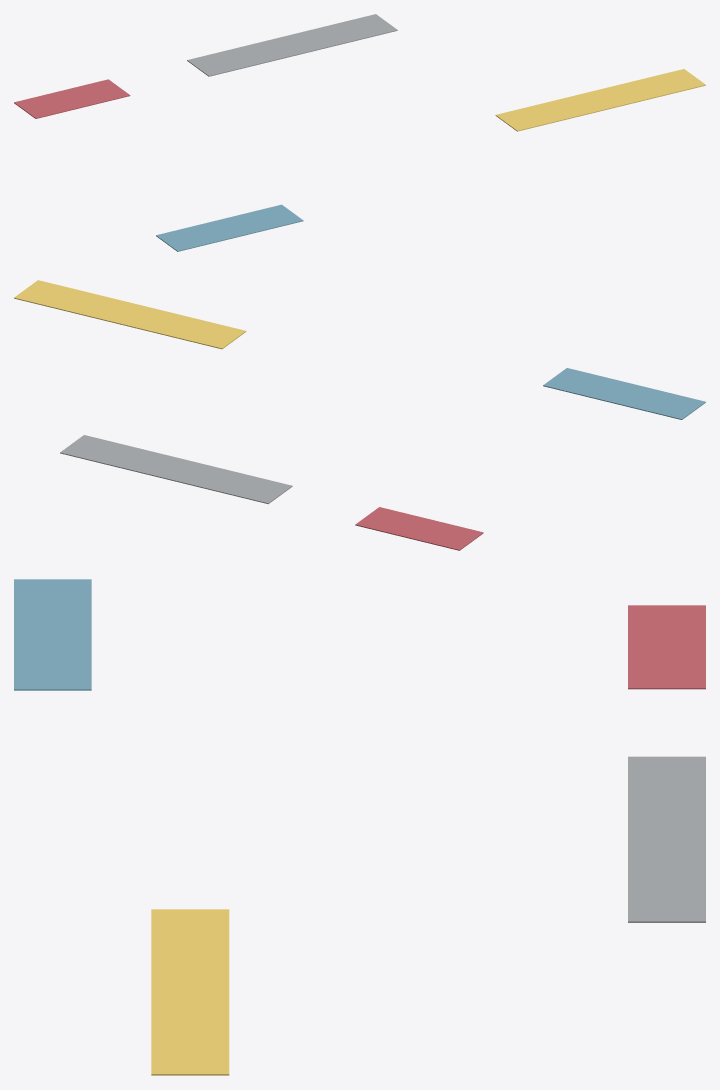
File: layout_tkr10.glb
The picture shows the model from 3 angles, top to bottom: view 1: azimuth 30°, elevation 25°; view 2: azimuth 150°, elevation 25°; view 3: azimuth 270°, elevation 25°; orthographic projection. The views are drawn at different scales.
Parts seen in each view (by area): view 1: layout_tkr10_pileta, layout_tkr10_planchada, layout_tkr10_acumulador, layout_tkr10_bomba; view 2: layout_tkr10_pileta, layout_tkr10_planchada, layout_tkr10_acumulador, layout_tkr10_bomba; view 3: layout_tkr10_planchada, layout_tkr10_pileta, layout_tkr10_acumulador, layout_tkr10_bomba.
Part boxes in pixels (left/top/right/bottom): layout_tkr10_pileta: left=187, top=14, right=397, bottom=76; layout_tkr10_planchada: left=495, top=69, right=705, bottom=131; layout_tkr10_acumulador: left=156, top=204, right=303, bottom=251; layout_tkr10_bomba: left=14, top=79, right=130, bottom=118; layout_tkr10_pileta: left=60, top=435, right=292, bottom=504; layout_tkr10_planchada: left=14, top=280, right=246, bottom=349; layout_tkr10_acumulador: left=543, top=368, right=705, bottom=419; layout_tkr10_bomba: left=355, top=507, right=483, bottom=550; layout_tkr10_planchada: left=151, top=909, right=229, bottom=1075; layout_tkr10_pileta: left=628, top=756, right=705, bottom=922; layout_tkr10_acumulador: left=14, top=579, right=91, bottom=690; layout_tkr10_bomba: left=628, top=605, right=705, bottom=689.
Bounding box in the file's own units: 36.03 × 0.0499 × 21.3.
